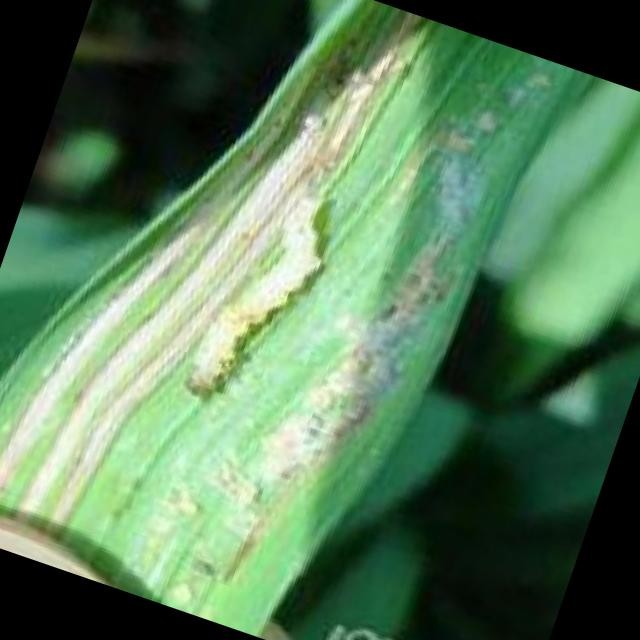leaf-folder: (130, 152, 406, 468)
